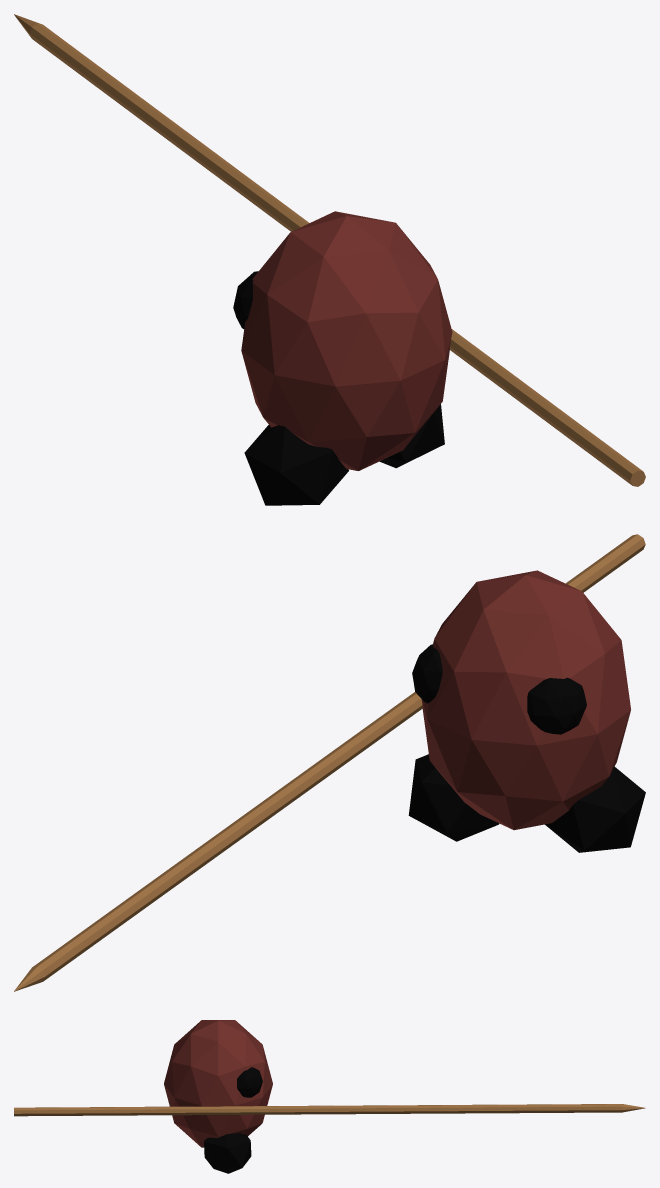
File: walk.f0025.glb
The picture shows the model from 3 angles, top to bottom: view 1: azimuth 30°, elevation 25°; view 2: azimuth 150°, elevation 25°; view 3: azimuth 270°, elevation 25°; orthographic projection. The views are drawn at different scales.
Visible parts, largest first — view 1: Body.001; view 2: Body.001; view 3: Body.001.
Part boxes in pixels (x1=…): Body.001: x1=14, y1=14, x2=645, y2=505; Body.001: x1=14, y1=534, x2=645, y2=991; Body.001: x1=14, y1=1020, x2=645, y2=1173.
Bounding box in the file's own units: 2.17 × 2.8 × 11.56.
Materials: 1 (1 with a texture image).
